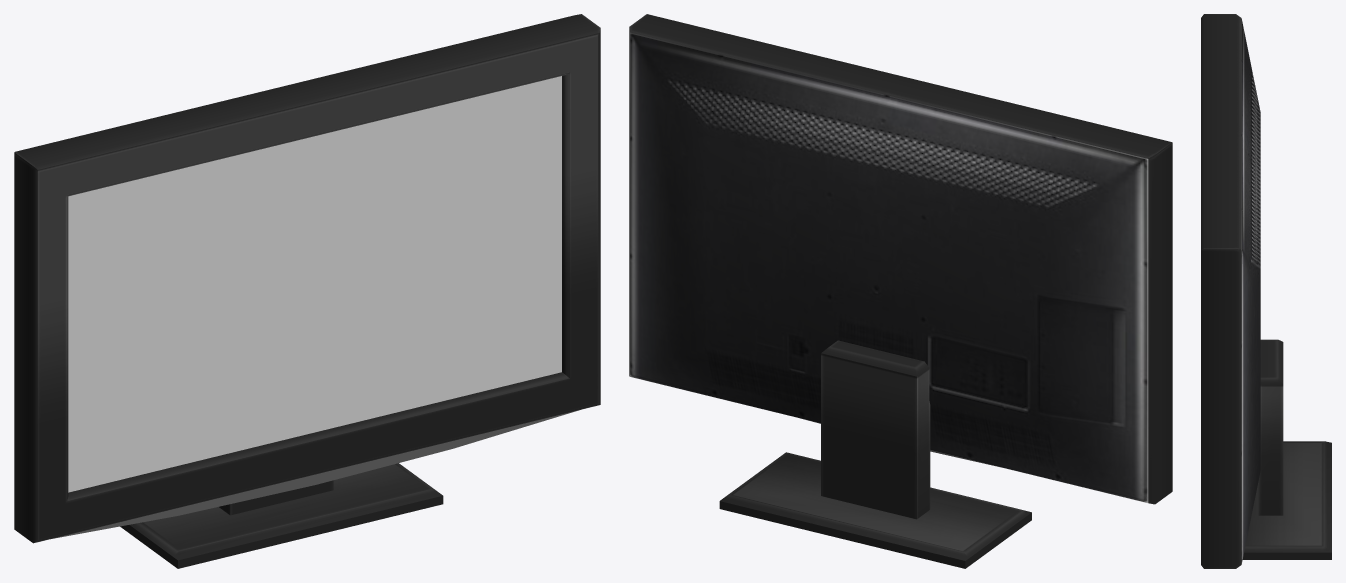
The model's file is PROPS_TV_02.FBX.
The picture shows the model from 3 angles, left to right: view 1: azimuth 30°, elevation 25°; view 2: azimuth 150°, elevation 25°; view 3: azimuth 270°, elevation 25°; orthographic projection. The views are drawn at different scales.
Parts seen in each view (by area): view 1: PROPS_TV_02_screen, PROPS_TV_02_base; view 2: PROPS_TV_02_base; view 3: PROPS_TV_02_base.
Part boxes in pixels (x1,y1,x2,y2): PROPS_TV_02_screen: [68, 76, 561, 492]; PROPS_TV_02_base: [14, 14, 600, 568]; PROPS_TV_02_base: [629, 14, 1172, 568]; PROPS_TV_02_base: [1201, 14, 1331, 568].
Bounding box in the file's own units: 114 × 84.81 × 26.84.
Materials: 1 (1 with a texture image).
